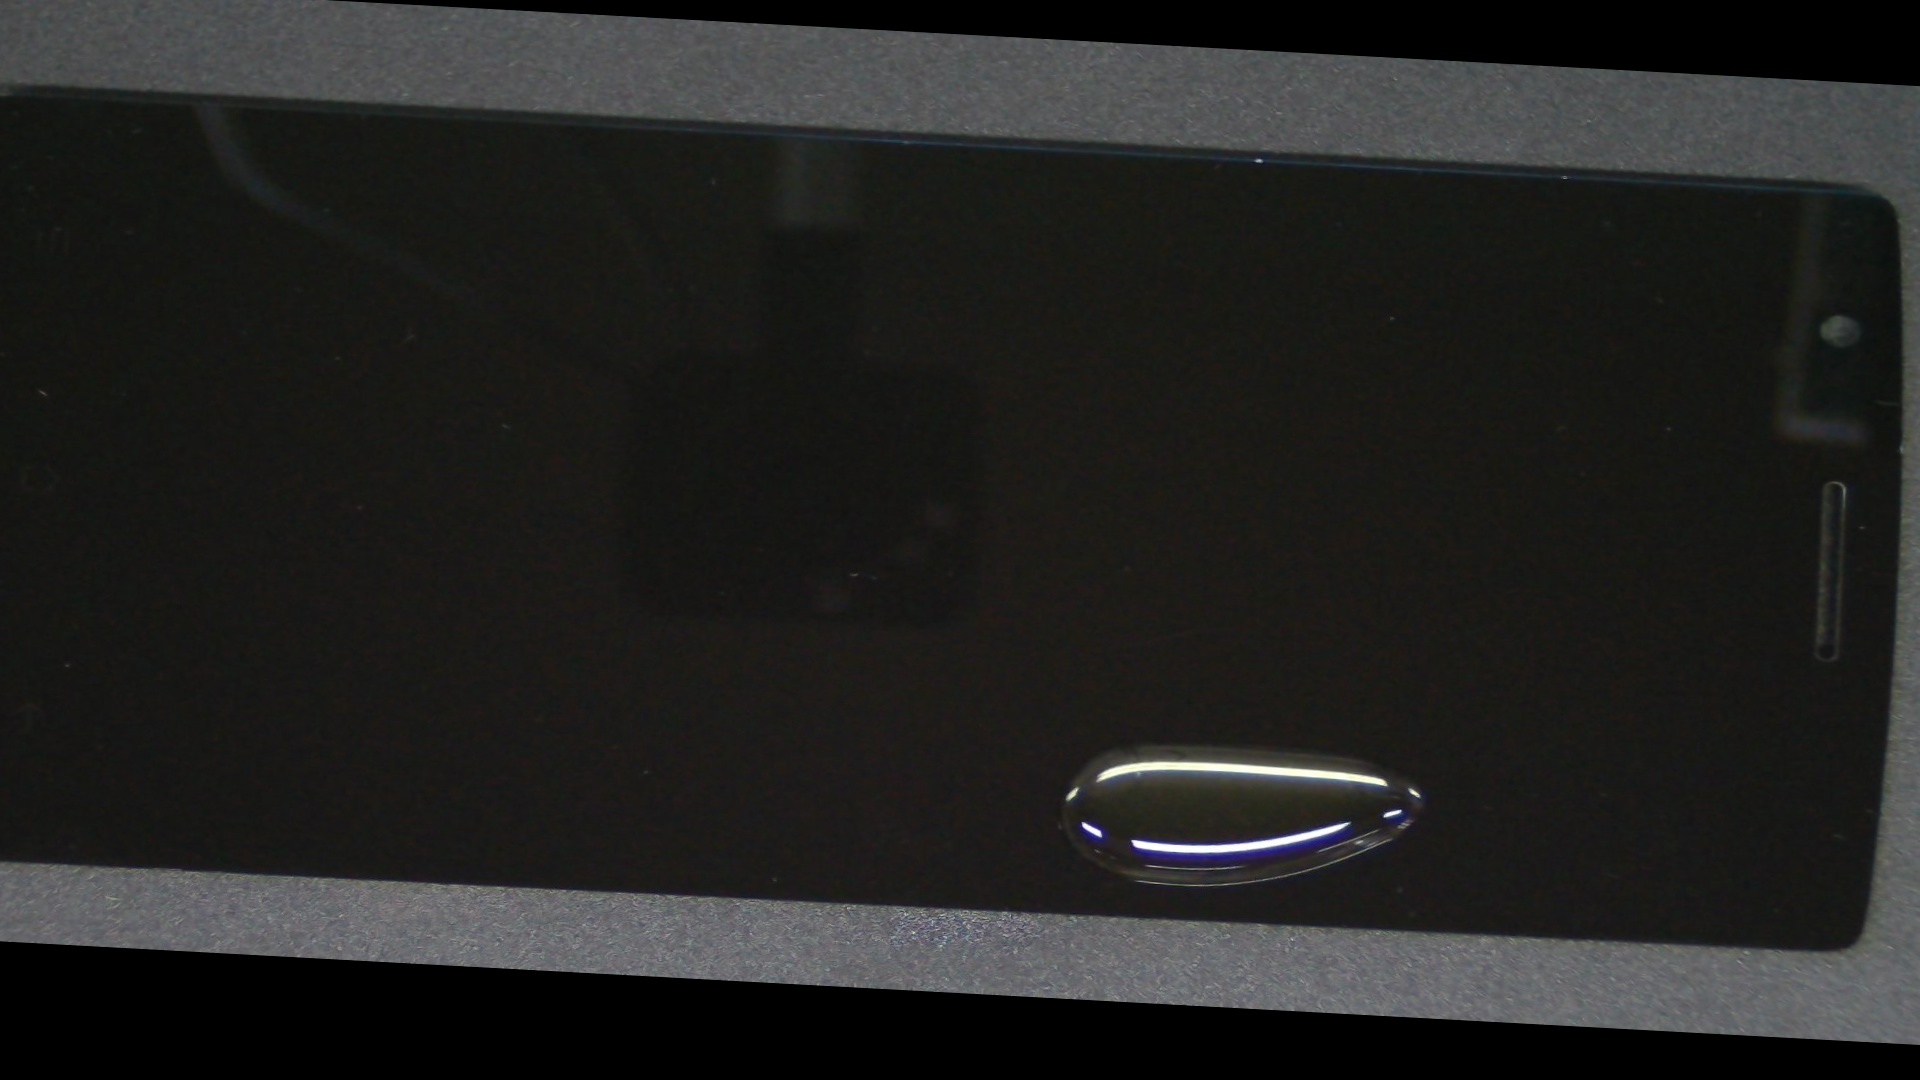oil: (460, 357, 1904, 1042)
